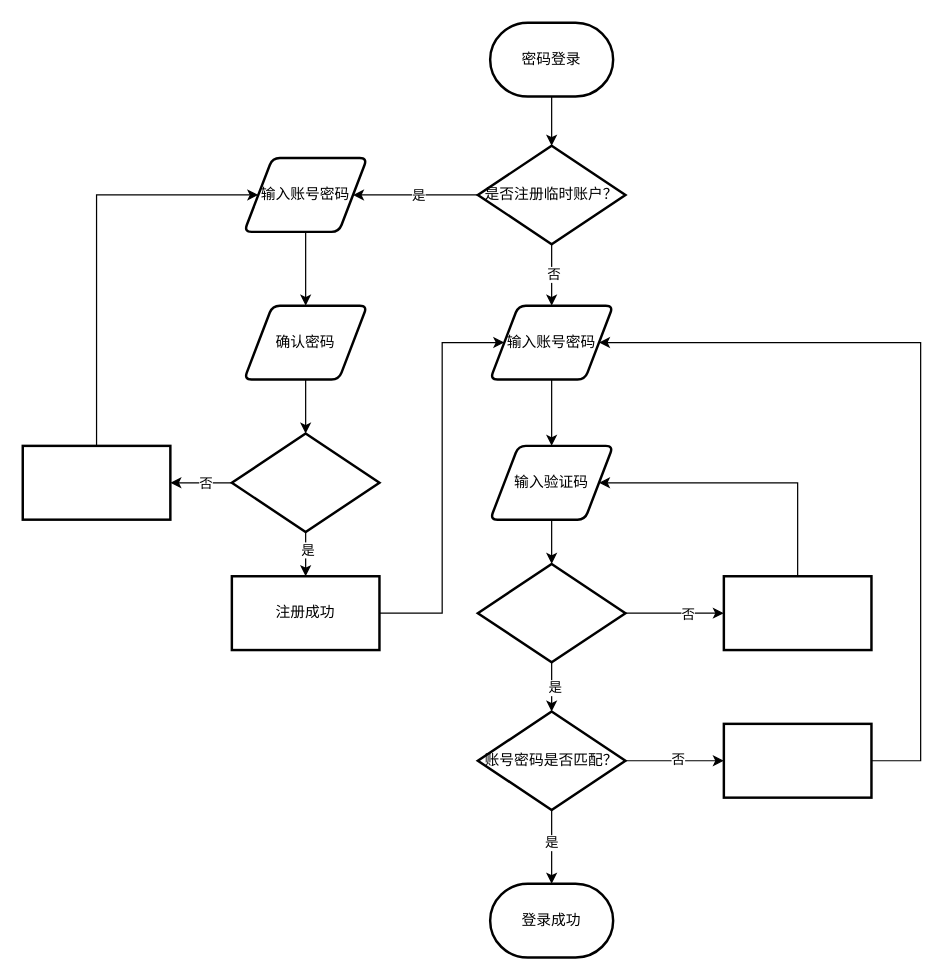
The diagram is 952 pixels wide and 979 high, and some of its shapes have lost their labels. Each missing label, with the centre of its shape:
"两次密码是否相同？" goes at point 305,482.
"注册失败" goes at point 96,482.
"账号密码错误" goes at point 797,760.
"验证码是否正确？" goes at point 551,612.
"验证码错误" goes at point 797,612.
